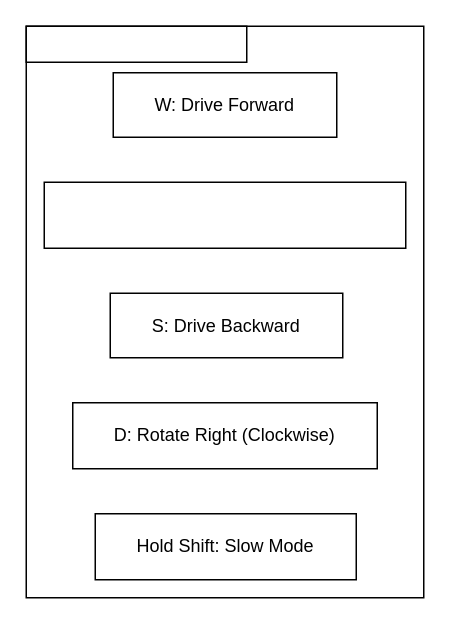
This 450x624 diagram has some shape labels left out. The shapes that lost their labels are listed below. From the top down, each one's box as (x1, y1, x2, y2) in pixels, then its label:
(25, 25, 247, 62): Keyboard Drive Controls
(43, 181, 406, 248): A: Rotate Left (Counter-Clockwise)
